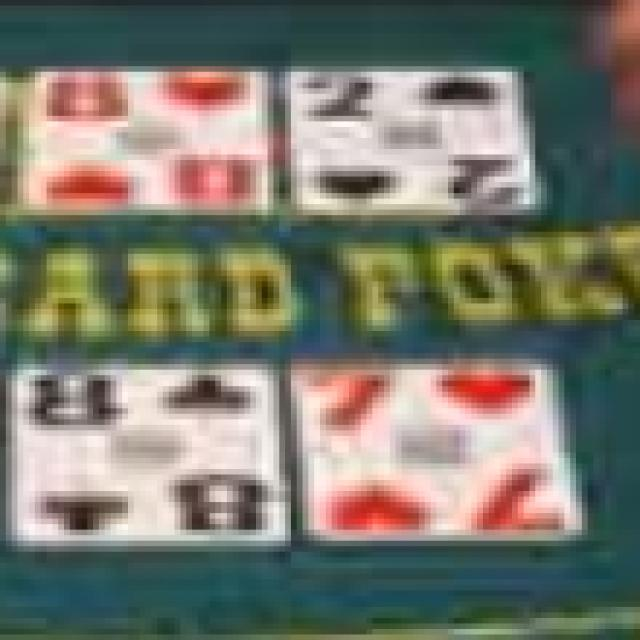Card-2: (294, 69, 531, 216)
Card-7: (298, 364, 579, 535)
Card-8: (17, 368, 287, 546), (24, 65, 269, 215)
